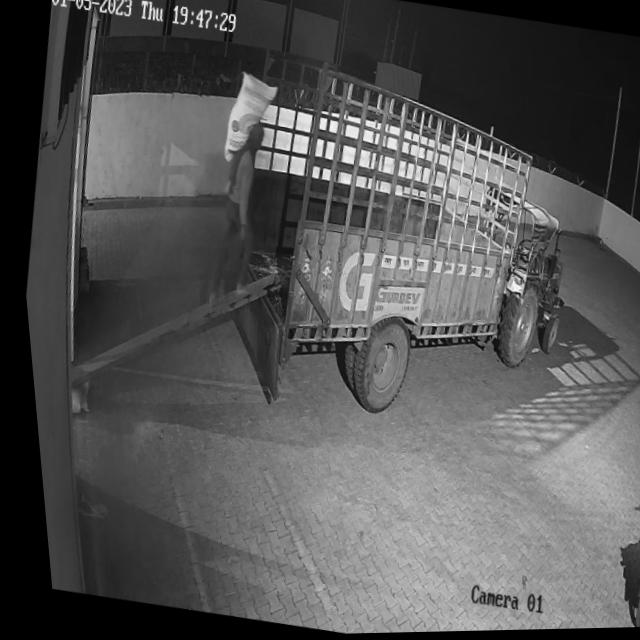sack: (212, 69, 283, 171)
